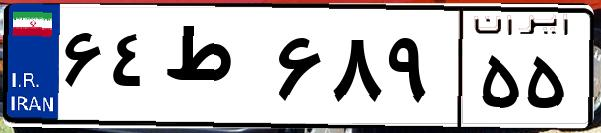4: (110, 28, 158, 98)
5: (475, 38, 525, 113), (525, 38, 570, 115)
6: (270, 28, 330, 110), (57, 26, 110, 100)
8: (330, 28, 385, 110)
9: (385, 28, 445, 110)
ط: (158, 20, 270, 120)
